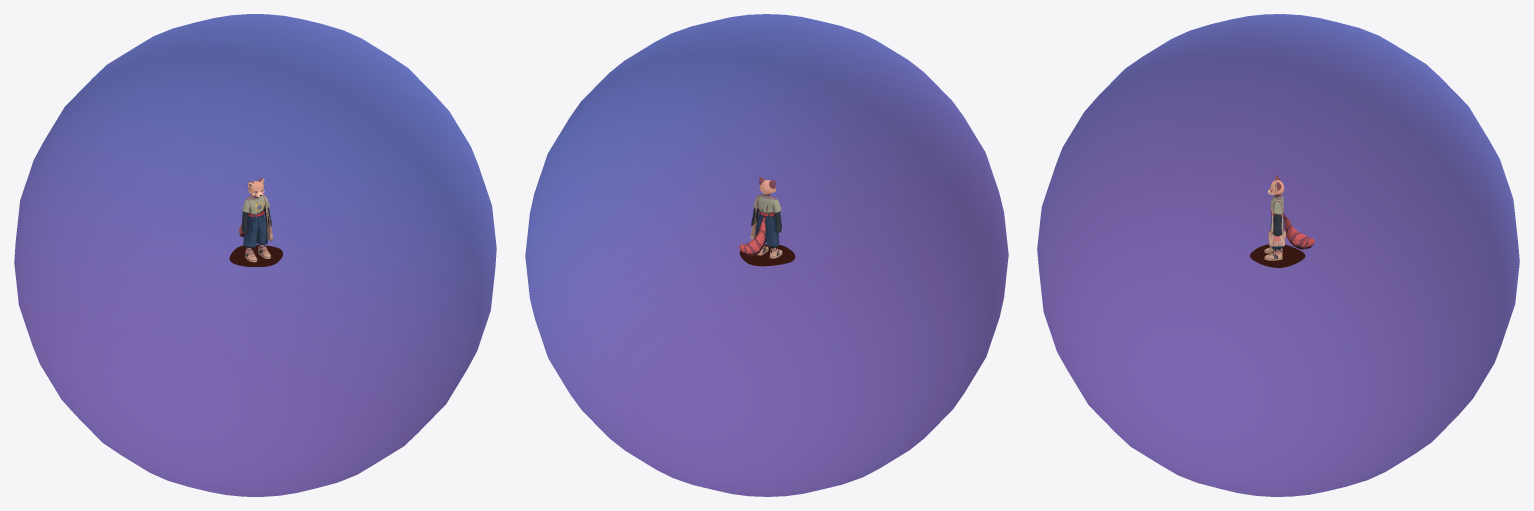
Rendered from tofu_stylized_3d_fox_character.glb.
The picture shows the model from 3 angles, left to right: view 1: azimuth 30°, elevation 25°; view 2: azimuth 150°, elevation 25°; view 3: azimuth 270°, elevation 25°; orthographic projection.
Visible parts, largest first — view 1: Sphere, DOWNPLACE.003, Retopo_Pants.R_high.002; view 2: Sphere, DOWNPLACE.003; view 3: Sphere, DOWNPLACE.003.
Part boxes in pixels (box(x1,y1,x2,y2)): Sphere: box(14, 14, 496, 496); DOWNPLACE.003: box(229, 244, 282, 266); Retopo_Pants.R_high.002: box(243, 214, 267, 247); Sphere: box(525, 14, 1008, 496); DOWNPLACE.003: box(739, 244, 795, 266); Sphere: box(1037, 14, 1519, 496); DOWNPLACE.003: box(1250, 244, 1305, 267).
Bounding box in the file's own units: 23.57 × 23.61 × 23.57.
5 materials, 5 textured.
